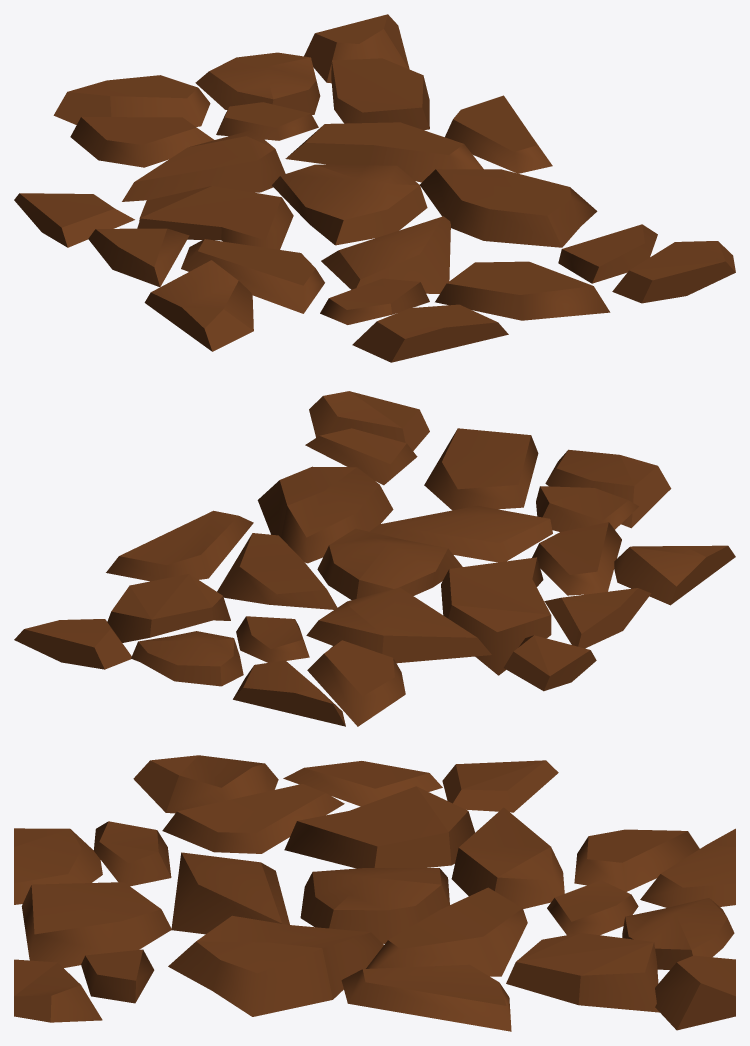
Rendered from Stone_Path_Crossroads_L.fbx.
3 renders of one model, top to bottom at view 1: azimuth 30°, elevation 25°; view 2: azimuth 150°, elevation 25°; view 3: azimuth 270°, elevation 25°, orthographic. The views are drawn at different scales.
Parts seen in each view (by area): view 1: Stone_Path_Crossroads_L; view 2: Stone_Path_Crossroads_L; view 3: Stone_Path_Crossroads_L.
Part boxes in pixels (x1,y1,x2,y2): Stone_Path_Crossroads_L: (14, 14, 735, 362); Stone_Path_Crossroads_L: (14, 391, 735, 726); Stone_Path_Crossroads_L: (14, 755, 735, 1031).
Bounding box in the file's own units: 121 × 15.06 × 147.
